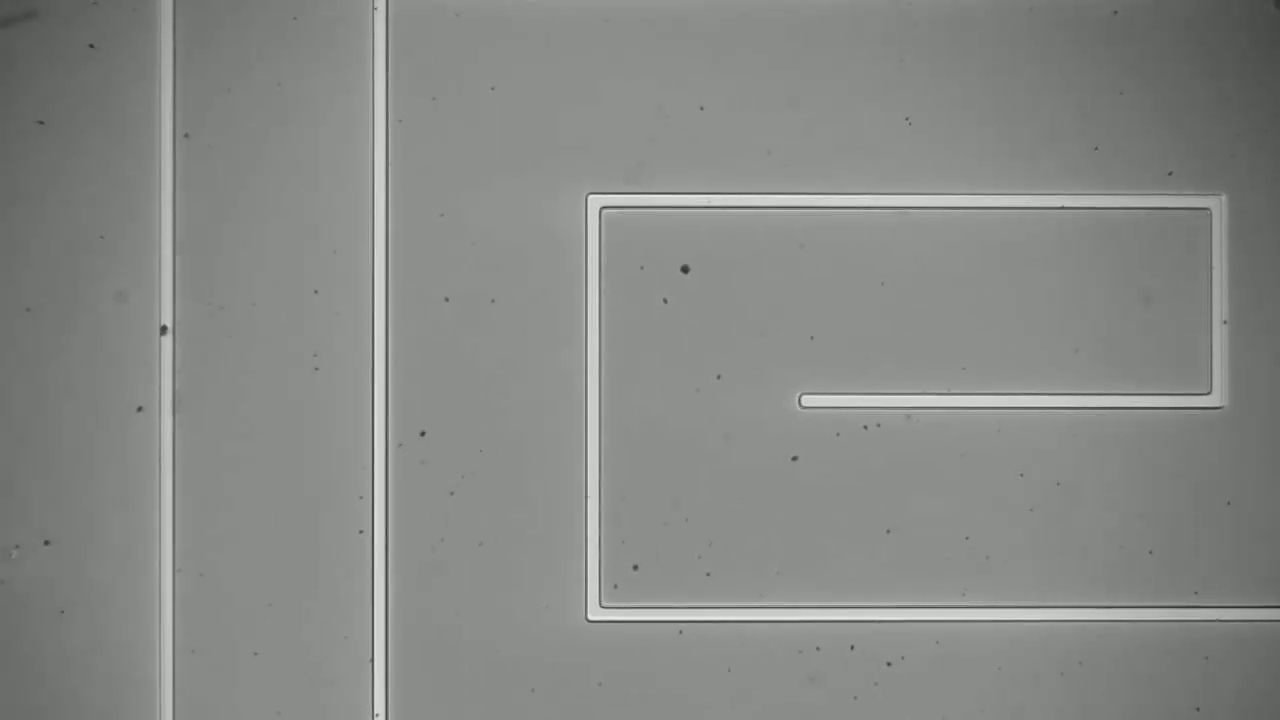stains_enbedded: (153, 321, 184, 339)
